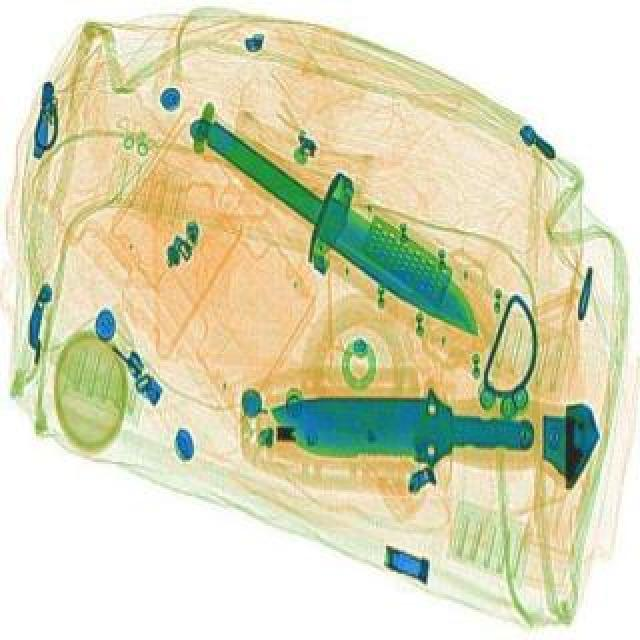knife: (188, 112, 496, 354), (268, 400, 534, 464)
